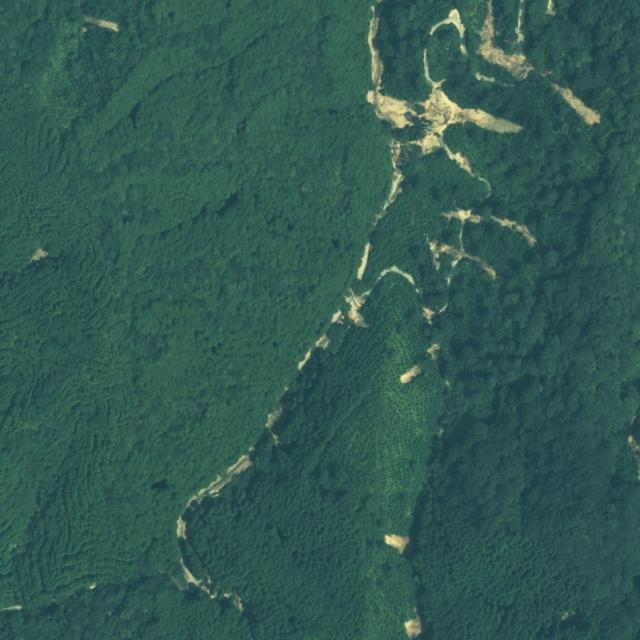landslide: (413, 49, 523, 173), (478, 1, 535, 79), (553, 82, 602, 124), (368, 90, 417, 128), (431, 8, 467, 53)
